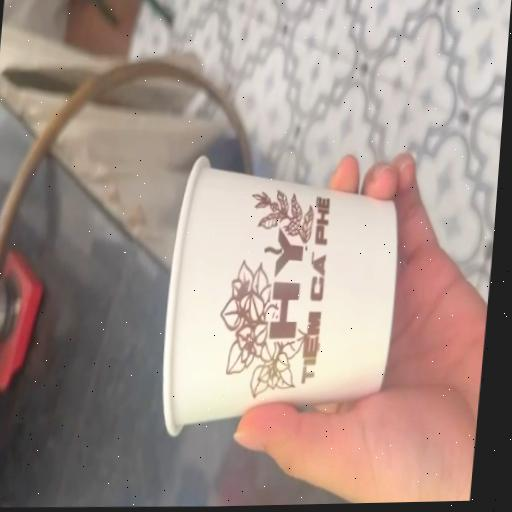Ly_giay: (164, 156, 397, 435), (220, 260, 306, 396)
